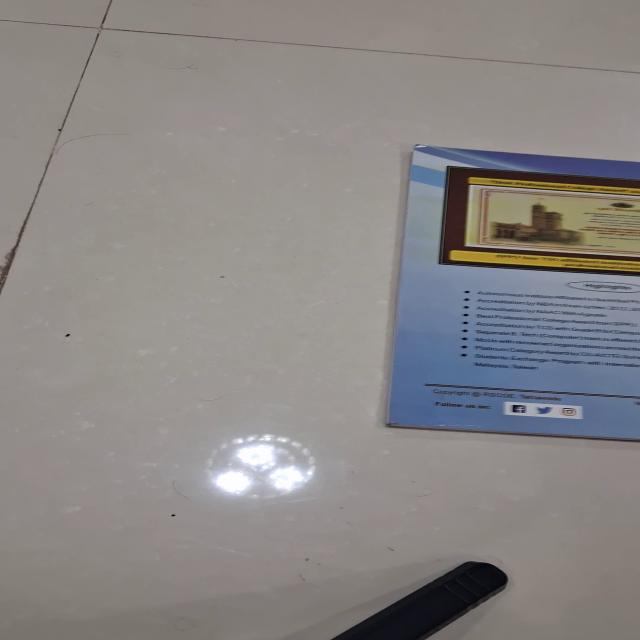paper: (384, 144, 639, 440)
